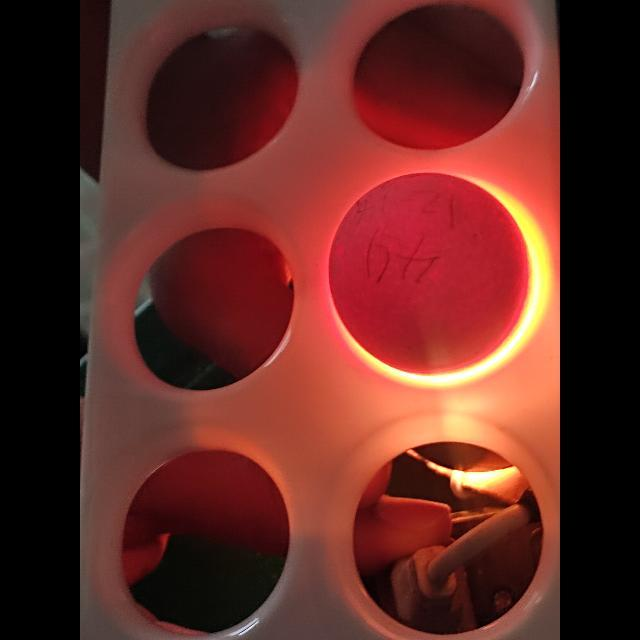Fertile: (330, 170, 546, 372)
